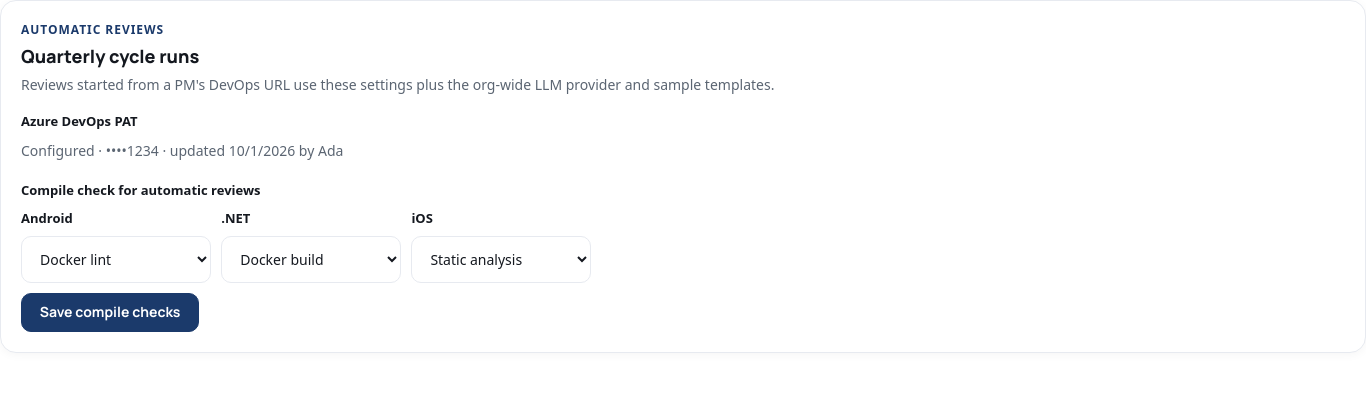
management cannot edit the PAT but can save compile checks
The image size is (1366, 398).
Check: the text "Configured · ••••1234 · updated 10/1/2026 by Ada" is shown, box [21, 141, 343, 160]
Select "Mac build agent" in the dropdown named "Compile check for iOS" at point(501, 260), box [411, 236, 591, 283]
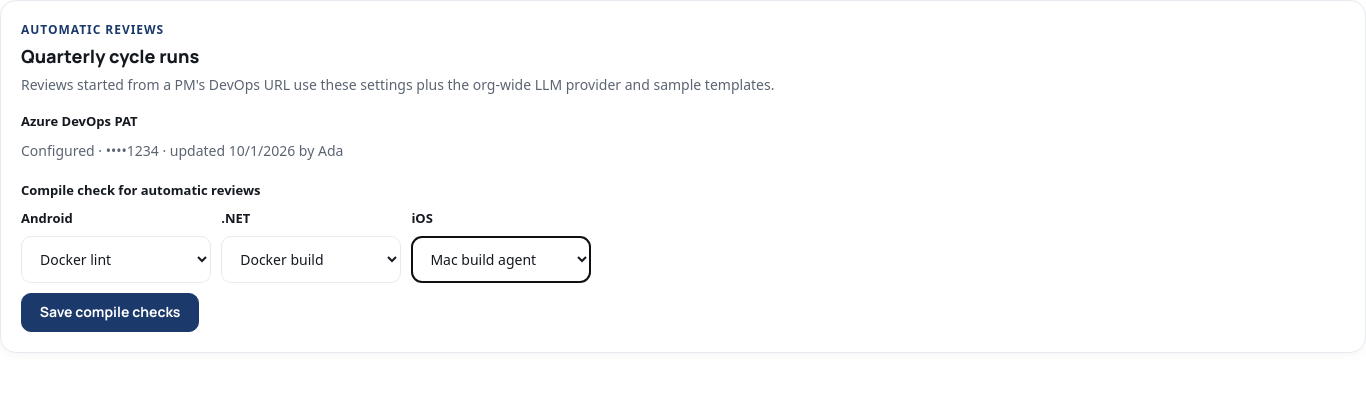
Click the button "Save compile checks".
click(110, 313)  # box [21, 293, 199, 332]
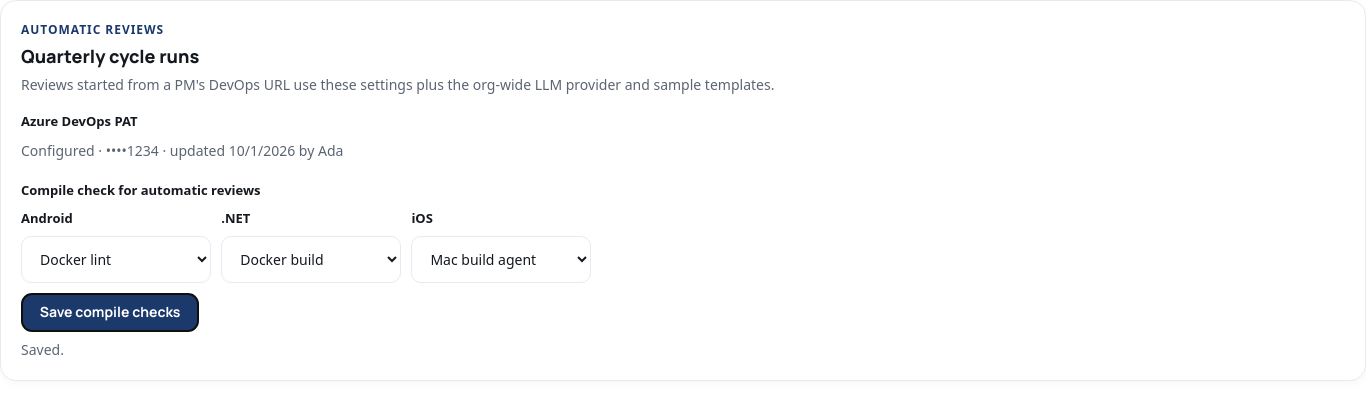
Check: the text "Saved." is shown, box [21, 340, 64, 359]
